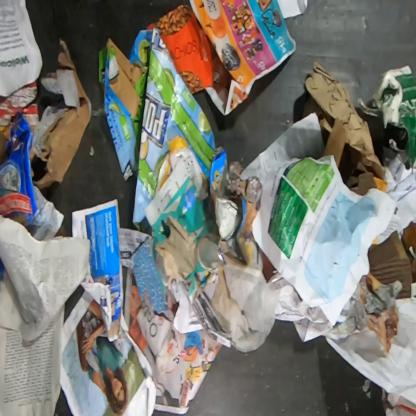cardboard: (98, 26, 230, 232), (32, 39, 92, 190), (0, 110, 40, 229), (224, 160, 263, 271), (154, 214, 205, 290), (368, 220, 415, 301), (323, 117, 345, 170)
metal: (196, 237, 224, 273)
soft_plastic: (147, 3, 214, 94)
